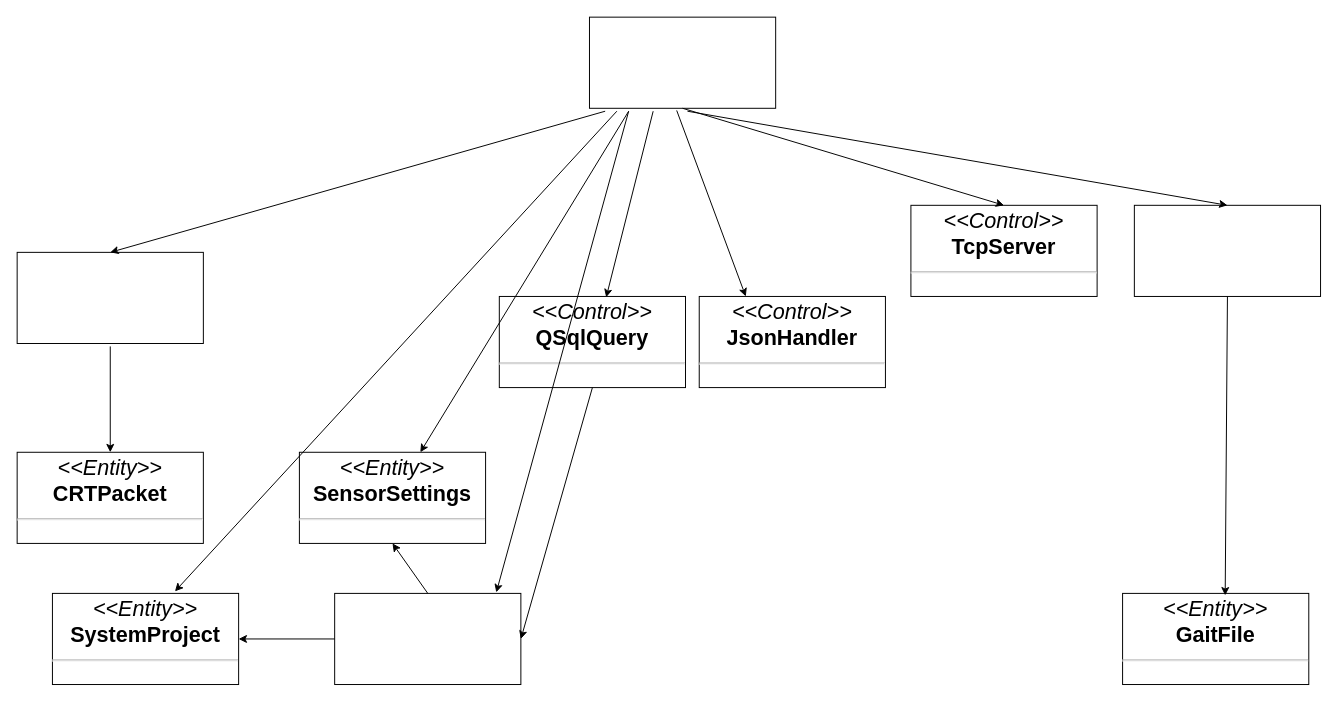
The diagram is 1338 pixels wide and 702 high, and some of its shapes have lost their labels. The centre of each missing label's shape, as x and y in pixels:
"<< Control >> CRTProtocol" belongs at (x=109, y=297).
"<< Control >> GaitAssessment" belongs at (x=1227, y=250).
"<<Boundary>> MocapWidget" belongs at (x=682, y=62).
"<<Entity>> Capture" belongs at (x=427, y=638).
